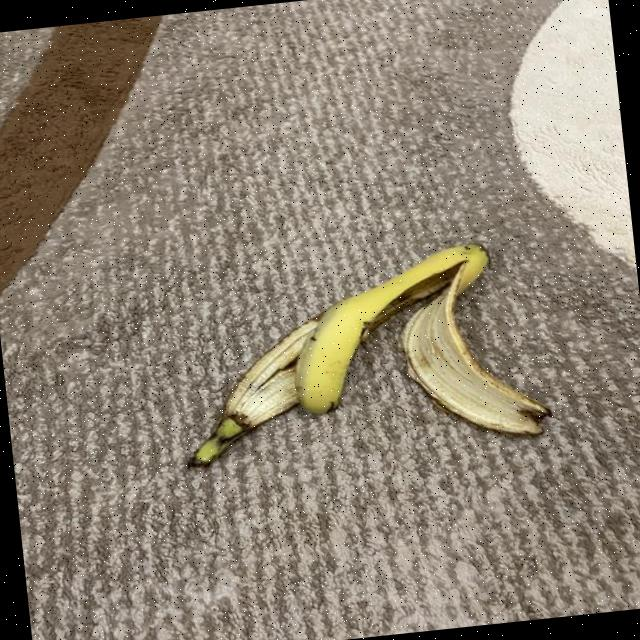banana-peel: (168, 233, 554, 472), (280, 238, 502, 418), (392, 253, 554, 449)
